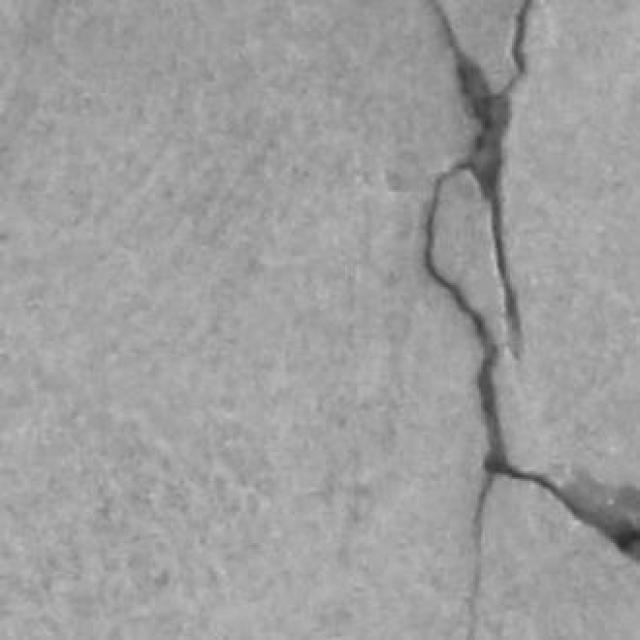crack: (425, 0, 639, 639), (431, 0, 531, 356)
